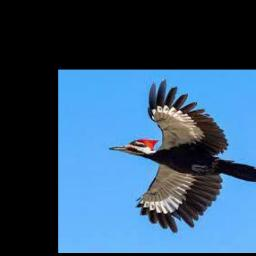Woodpecker: (108, 77, 256, 233)
